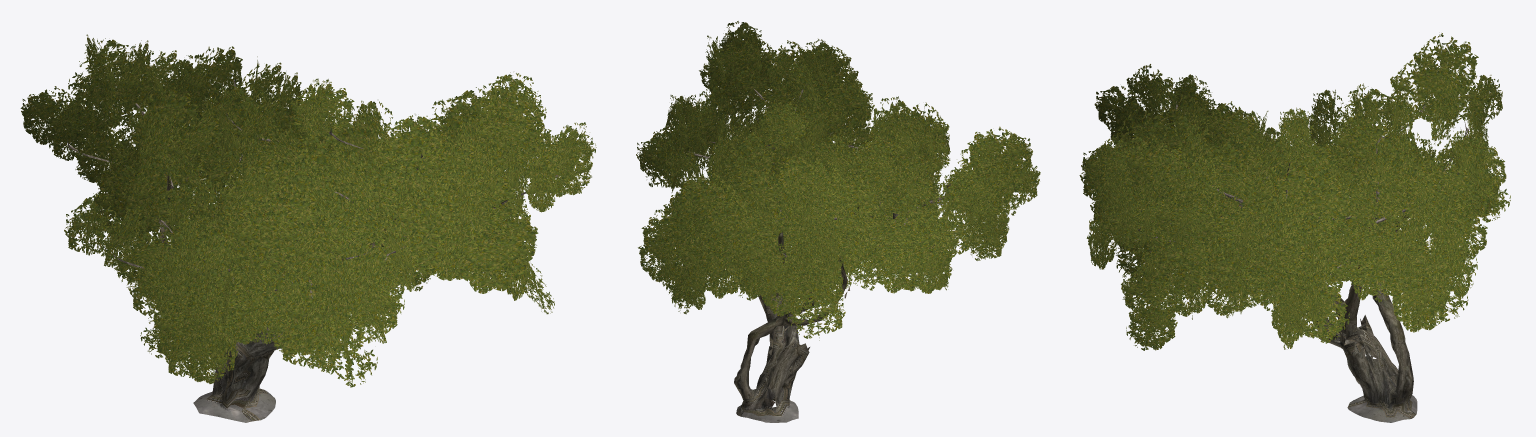
Rendered from tree_island.glb.
3 renders of one model, left to right at view 1: azimuth 30°, elevation 25°; view 2: azimuth 150°, elevation 25°; view 3: azimuth 270°, elevation 25°, orthographic. The views are drawn at different scales.
Visible parts, largest first — view 1: foliage, trunk, branches; view 2: foliage, trunk; view 3: foliage, trunk, branches.
Part boxes in pixels (x1,y1,x2,y2): foliage: [20, 34, 596, 387]; trunk: [158, 175, 396, 422]; branches: [67, 80, 557, 332]; foliage: [636, 21, 1040, 340]; trunk: [734, 147, 907, 422]; foliage: [1079, 33, 1510, 350]; trunk: [1220, 136, 1431, 422]; branches: [1135, 101, 1469, 307].
Size of the model in its own units: 4.25 by 3.58 by 4.36.
3 materials, 3 textured.
